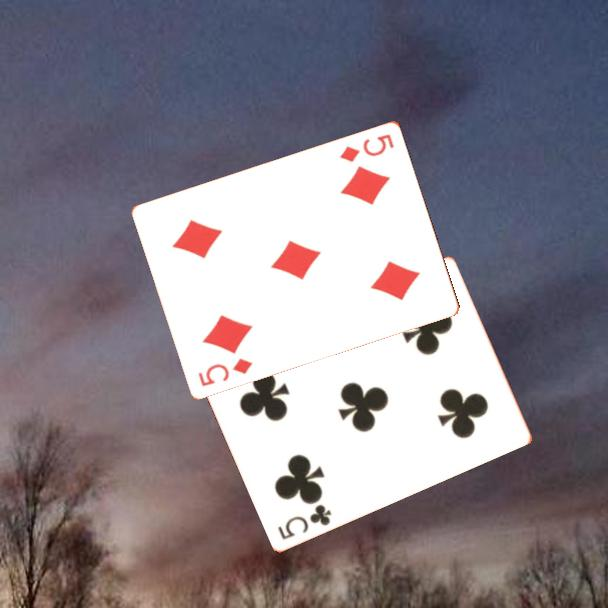c05: (274, 500, 335, 542)
d05: (195, 354, 256, 389), (336, 130, 397, 164)
